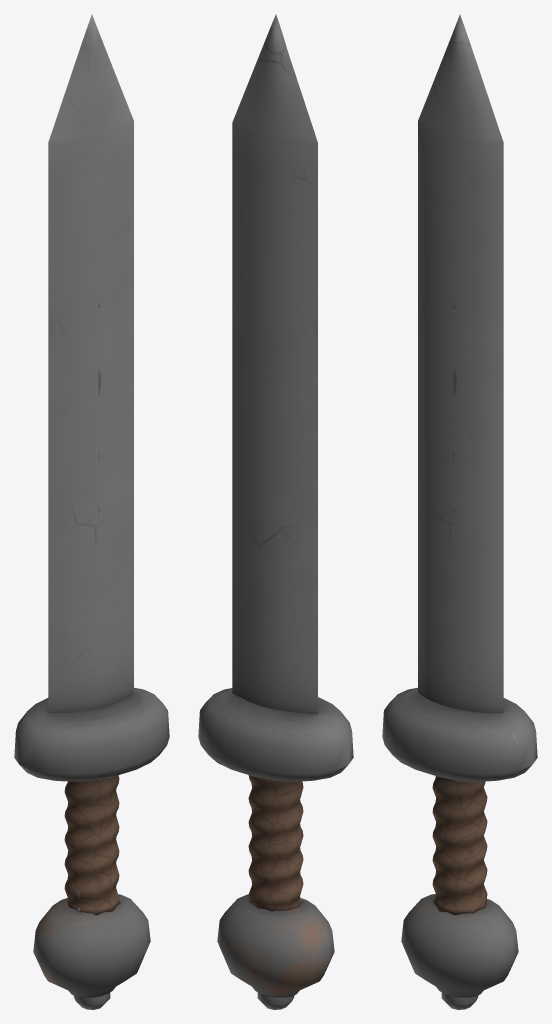
File: short-sword.glb
3 views of the same model, side by side, from view 1: azimuth 30°, elevation 25°; view 2: azimuth 150°, elevation 25°; view 3: azimuth 330°, elevation 25° (orthographic).
Visible parts, largest first — view 1: short-sword; view 2: short-sword; view 3: short-sword.
Part boxes in pixels (box(x1,y1,x2,y2)): short-sword: box(14, 14, 169, 1009); short-sword: box(198, 14, 353, 1009); short-sword: box(382, 14, 537, 1009).
Bounding box in the file's own units: 0.23 × 1.51 × 0.156.
Materials: 1 (1 with a texture image).
